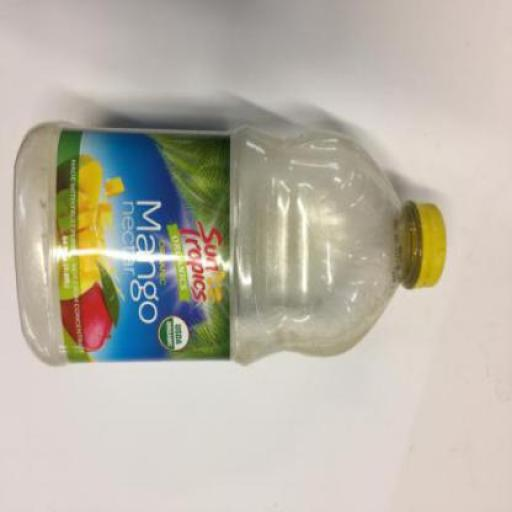plastic: (14, 126, 448, 363), (400, 202, 447, 290)
